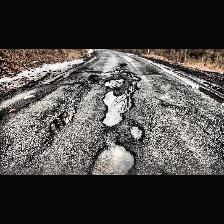pothole: (89, 144, 137, 174), (102, 90, 136, 126), (49, 106, 77, 134), (126, 70, 140, 92), (130, 124, 144, 140), (104, 78, 125, 88), (114, 68, 124, 72)
